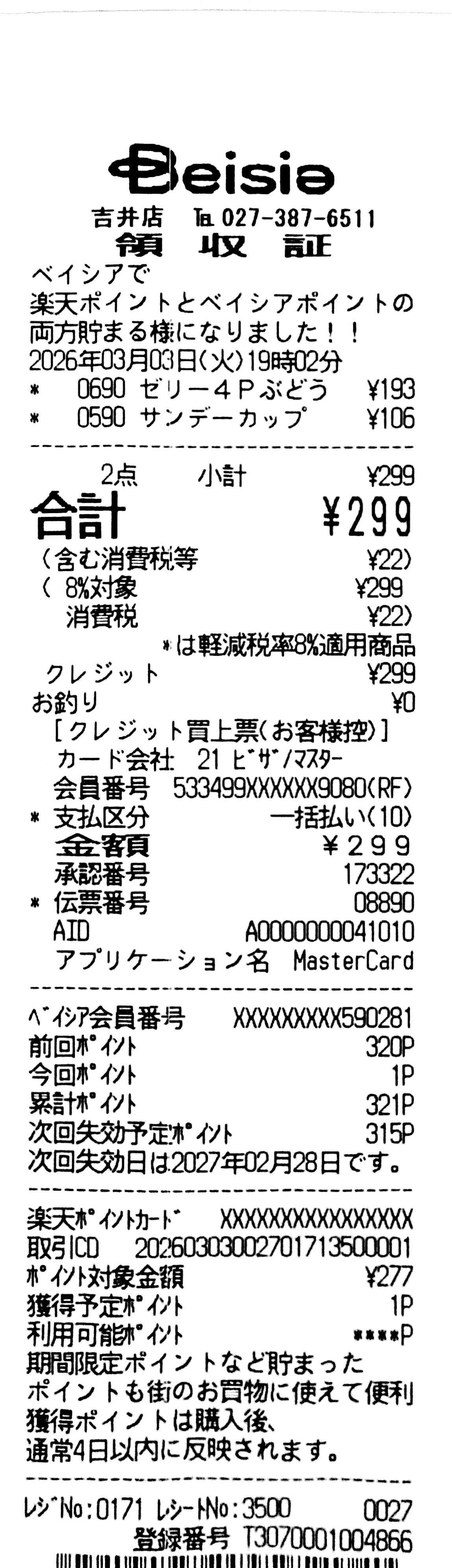Date: (28, 348, 196, 373)
Pay: (30, 490, 411, 540)
Shopname: (107, 142, 335, 196)
Telnum: (221, 207, 376, 229)
